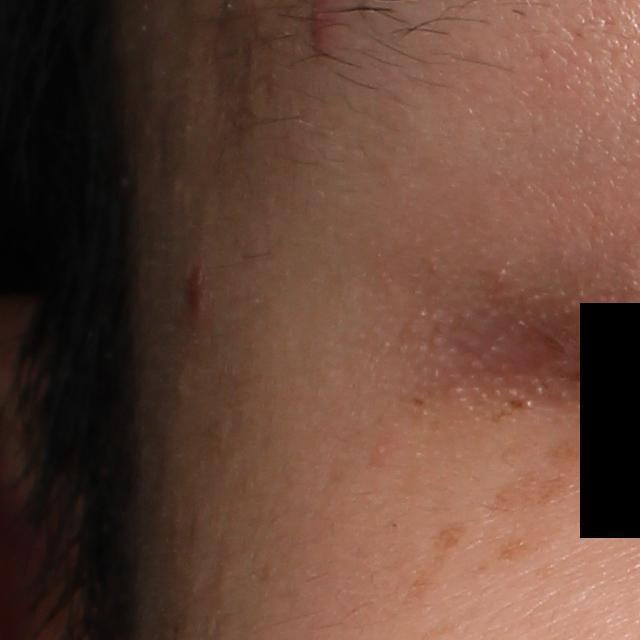melasma: (481, 429, 602, 576), (398, 511, 463, 616)
other: (370, 247, 638, 416)
papule: (166, 242, 222, 341)
